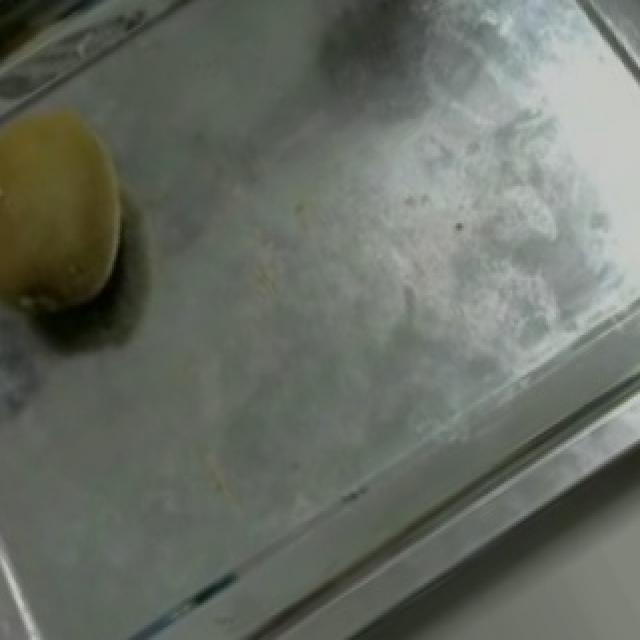Fruit: (0, 72, 170, 352)
